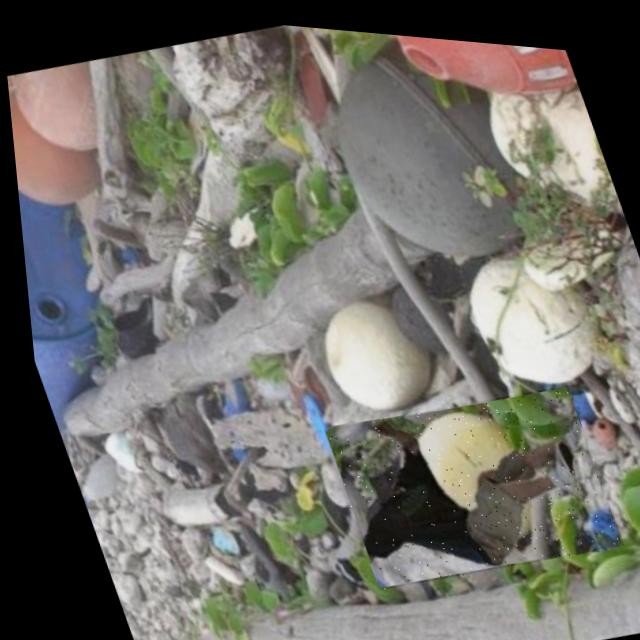Person in Rubble: (310, 356, 619, 600)
